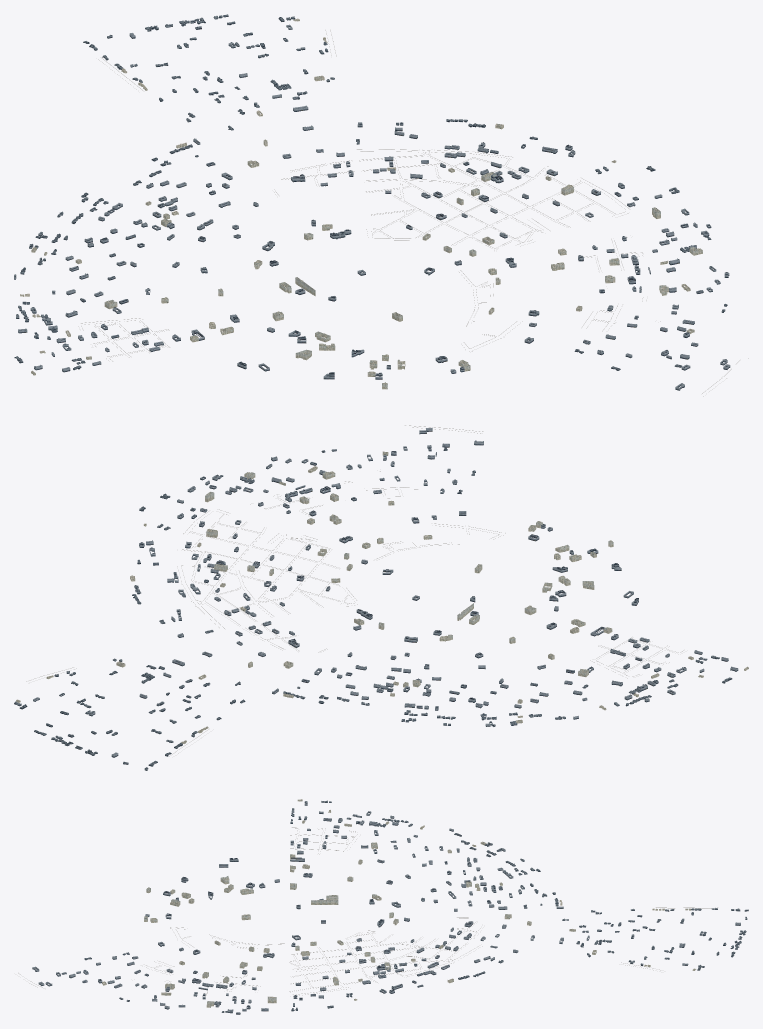
Rendered from city_3d_model_4.glb.
3 renders of one model, top to bottom at view 1: azimuth 30°, elevation 25°; view 2: azimuth 150°, elevation 25°; view 3: azimuth 270°, elevation 25°, orthographic. The views are drawn at different scales.
Visible parts, largest first — view 1: Object_64, Object_216, Object_314; view 2: Object_64, Object_216, Object_314; view 3: Object_64, Object_216, Object_314.
Boxes of the visible parts, x1,y1,x2,y2 form: Object_64: [14, 14, 730, 390]; Object_216: [20, 18, 702, 389]; Object_314: [78, 30, 748, 396]; Object_64: [14, 427, 738, 770]; Object_216: [16, 451, 748, 743]; Object_314: [26, 425, 683, 756]; Object_64: [32, 800, 748, 1014]; Object_216: [102, 799, 696, 1007]; Object_314: [18, 827, 717, 996].
Size of the model in its own units: 751 by 43.09 by 1002.
Materials: 3 (3 with a texture image).
